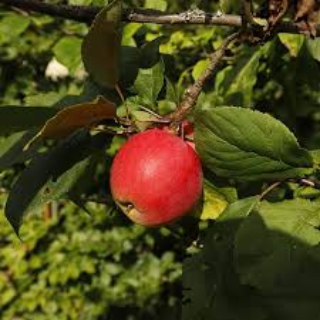tao: (109, 127, 207, 232)
